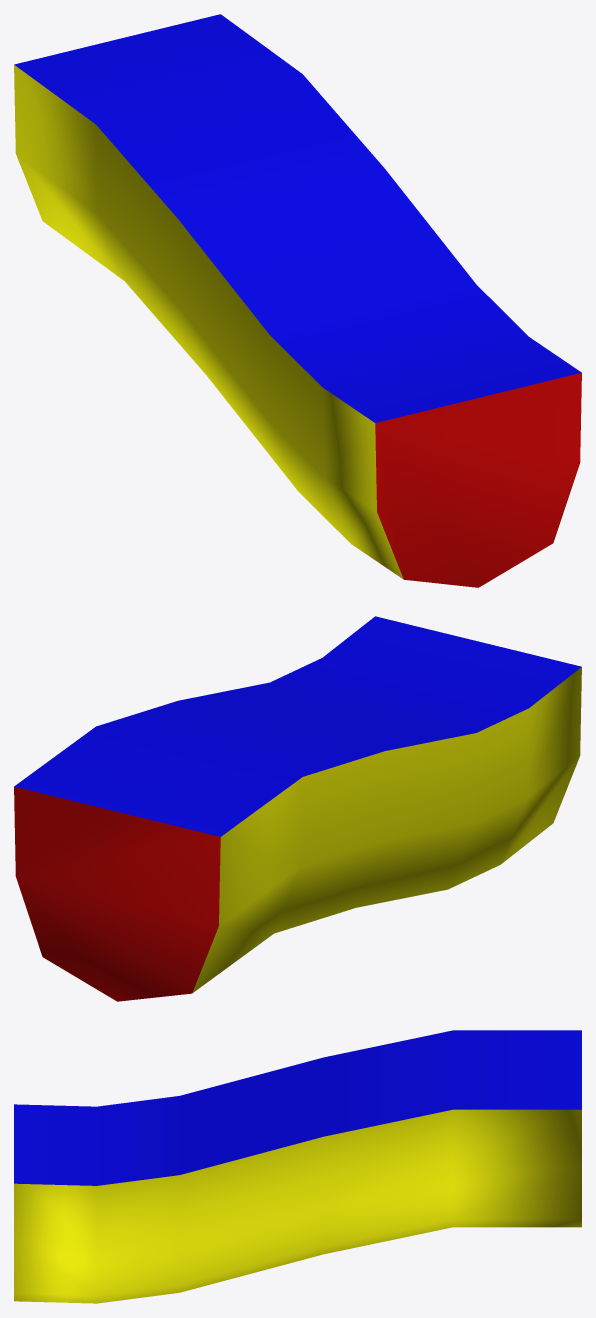
The picture shows the model from 3 angles, top to bottom: view 1: azimuth 30°, elevation 25°; view 2: azimuth 150°, elevation 25°; view 3: azimuth 270°, elevation 25°; orthographic projection. The views are drawn at different scales.
Parts seen in each view (by area): view 1: polySurface131; view 2: polySurface131; view 3: polySurface131.
Part boxes in pixels (left/top/right/bottom): polySurface131: left=14, top=14, right=581, bottom=587; polySurface131: left=14, top=616, right=581, bottom=1001; polySurface131: left=14, top=1030, right=581, bottom=1303.
Bounding box in the file's own units: 23.58 × 31.27 × 71.37.
